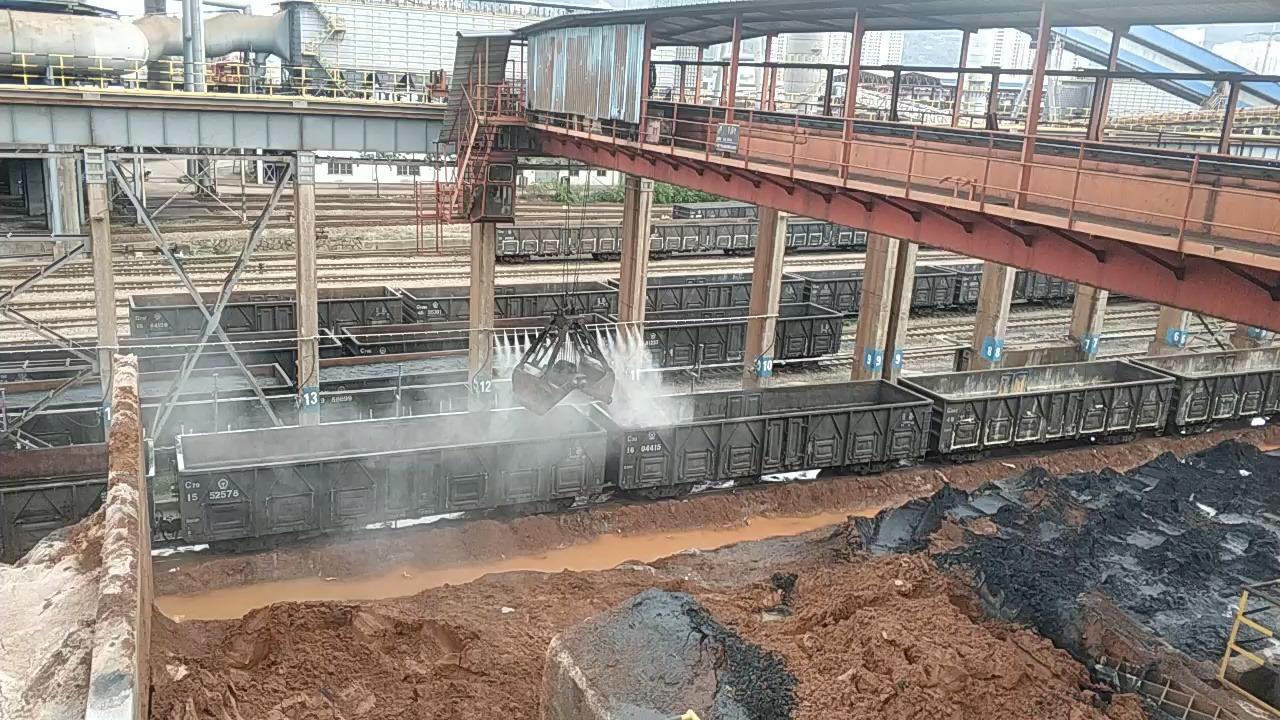dust: (105, 339, 693, 553)
grab: (504, 301, 623, 414)
